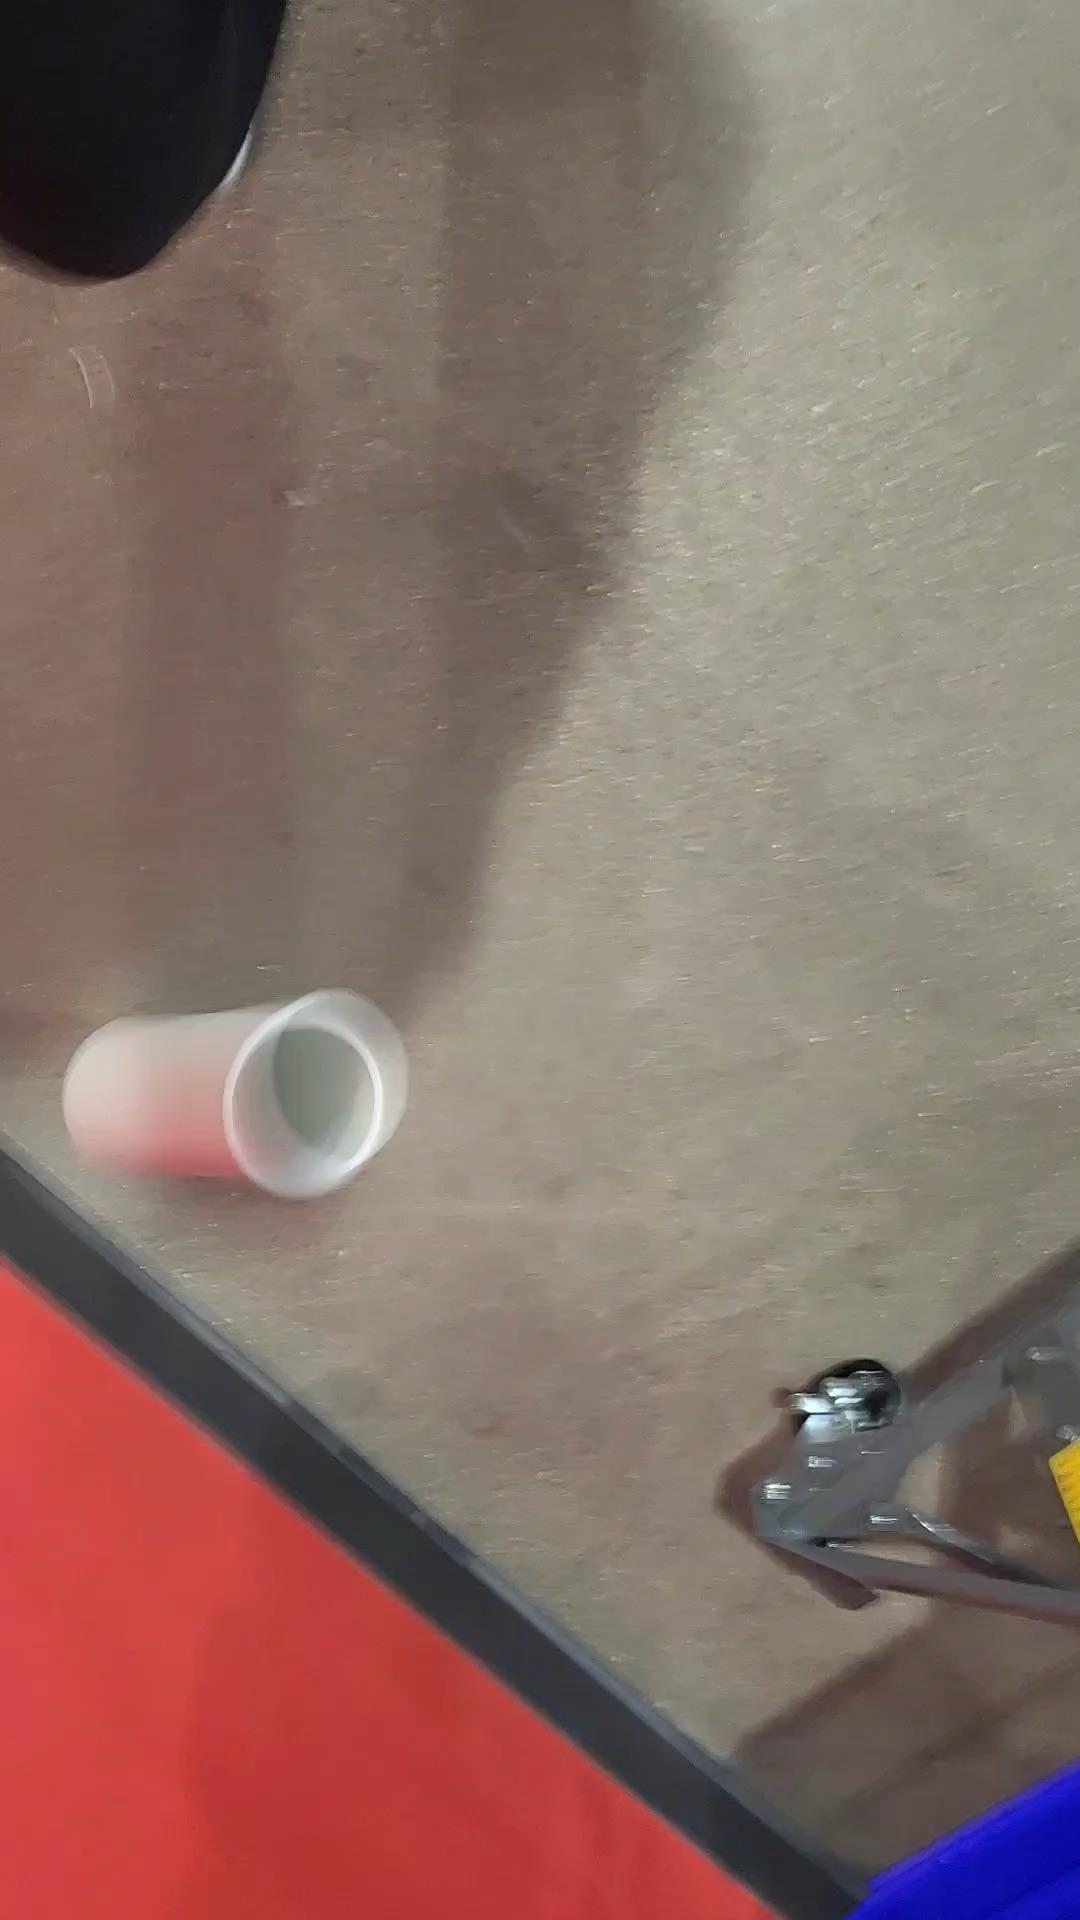coral: (63, 993, 410, 1202)
